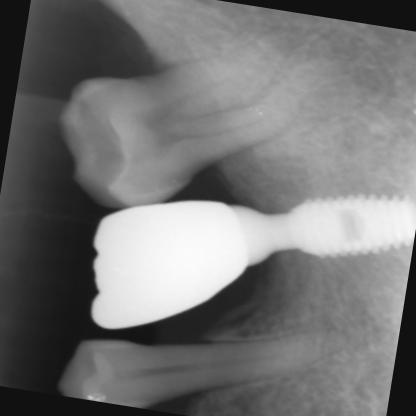Bicon: (252, 171, 415, 279)
